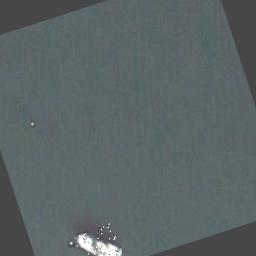boat: (73, 222, 125, 256)
